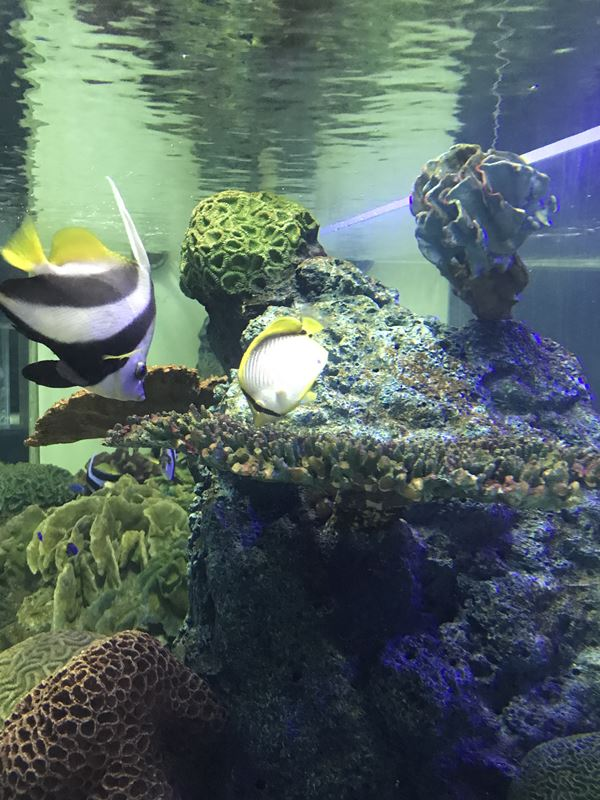Black-backed butterflyfish: (231, 296, 347, 442)
